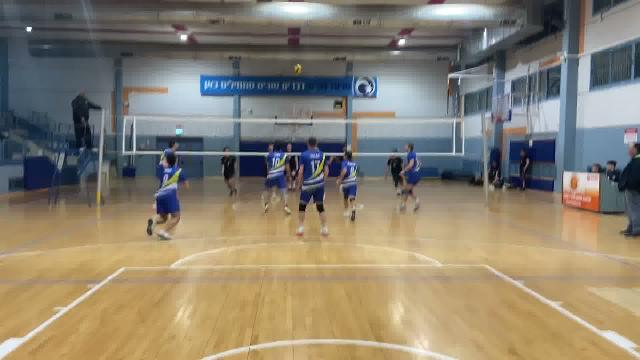ball: (292, 63, 305, 76)
